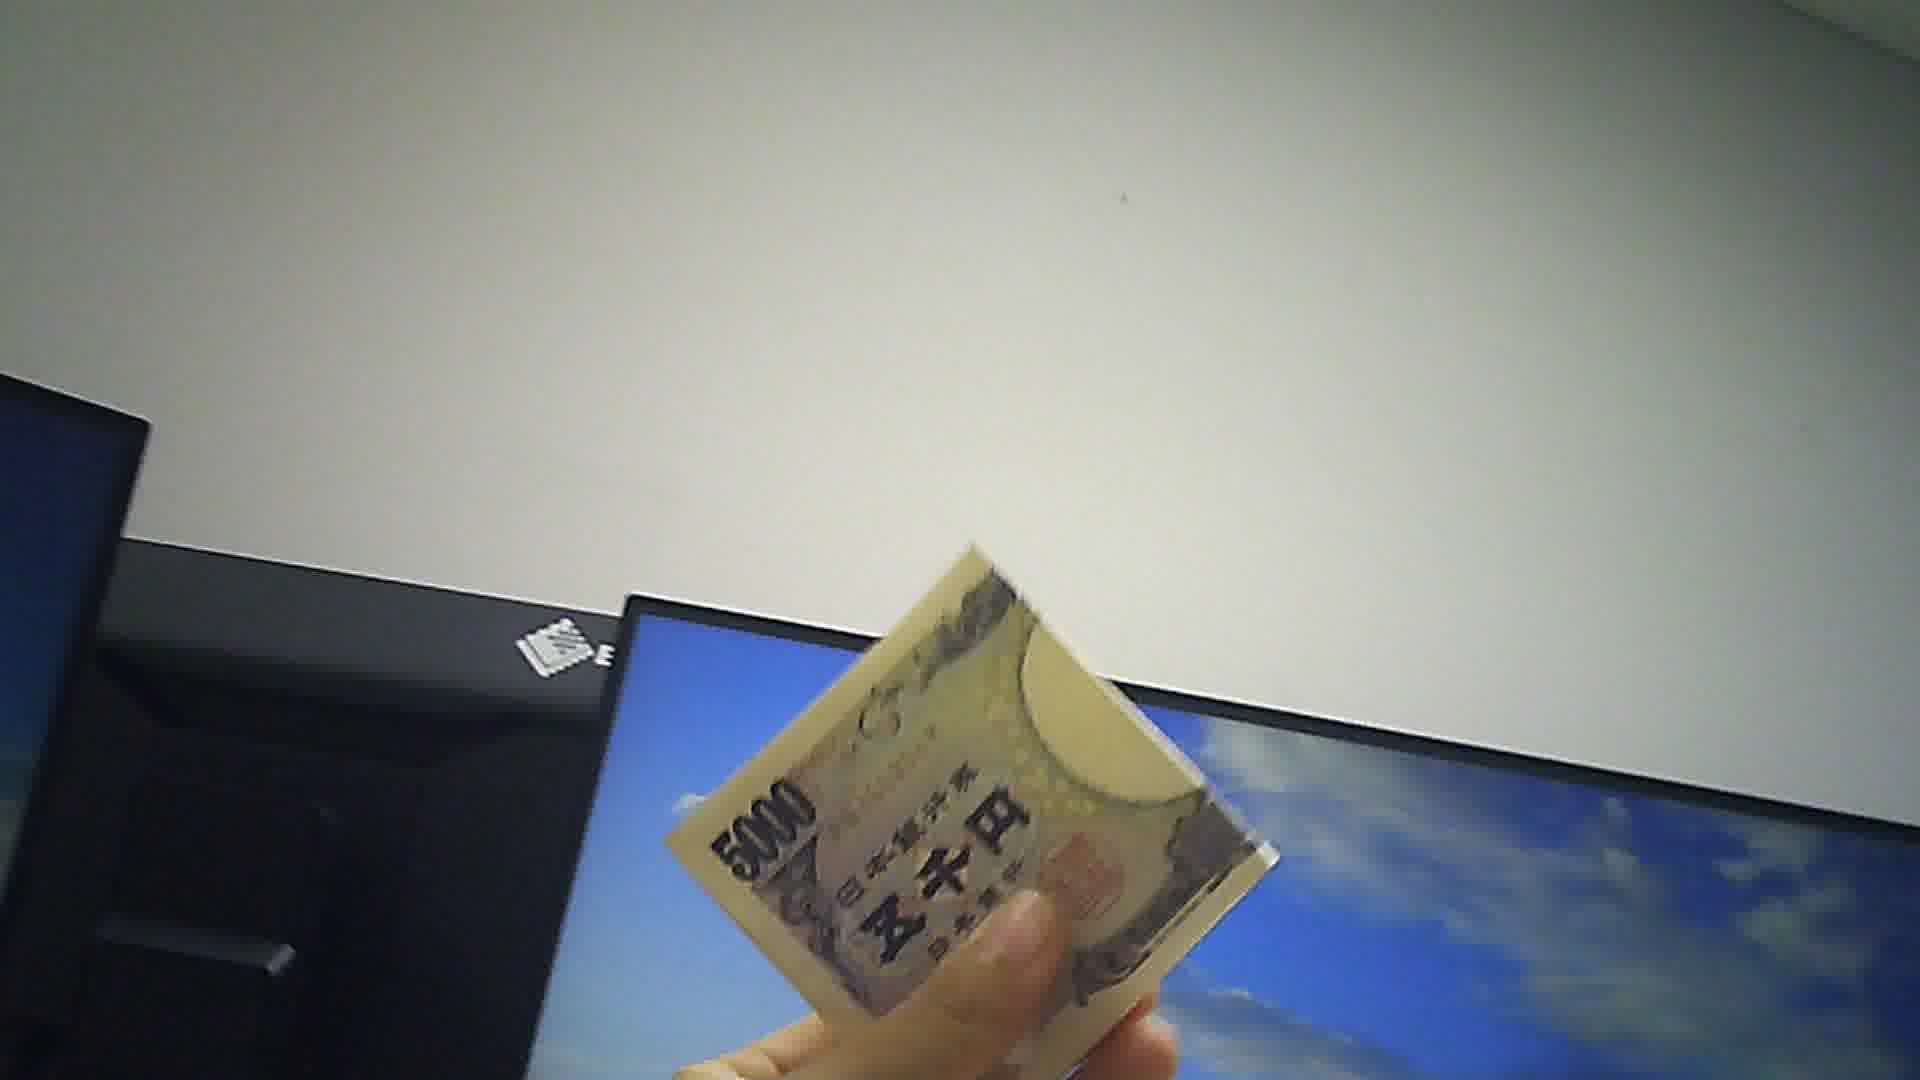5,000 Yen: (659, 541, 1303, 1079)
